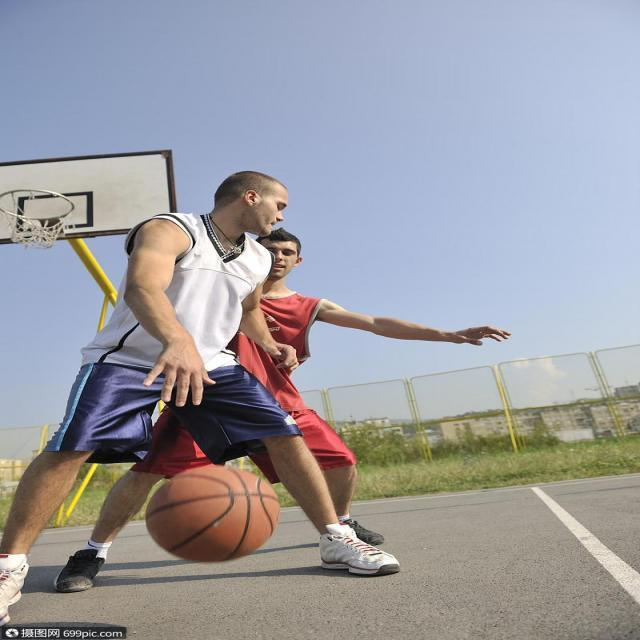rim: (146, 465, 282, 562)
